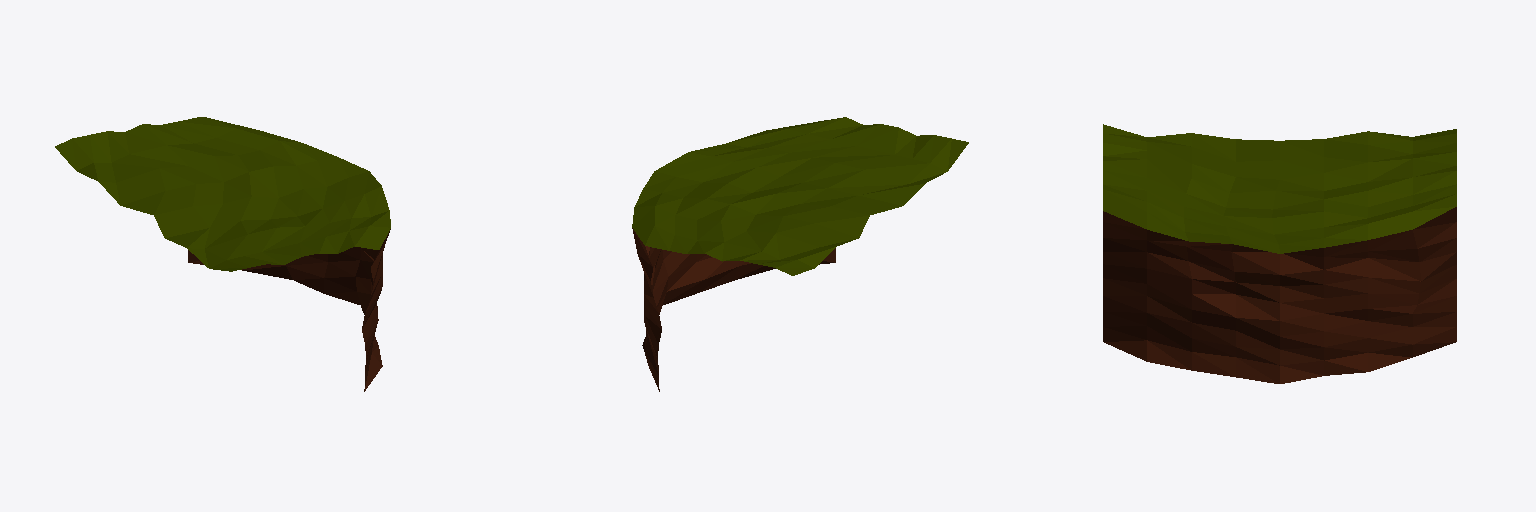
File: Morro-03.obj
3 renders of one model, left to right at view 1: azimuth 30°, elevation 25°; view 2: azimuth 150°, elevation 25°; view 3: azimuth 270°, elevation 25°, orthographic.
Visible parts, largest first — view 1: Plane.001; view 2: Plane.001; view 3: Plane.001.
Boxes of the visible parts, <box> form: Plane.001: <box>55,117,390,391</box>; Plane.001: <box>632,117,968,391</box>; Plane.001: <box>1103,124,1456,383</box>.
Size of the model in its own units: 10.76 by 6.94 by 14.54.